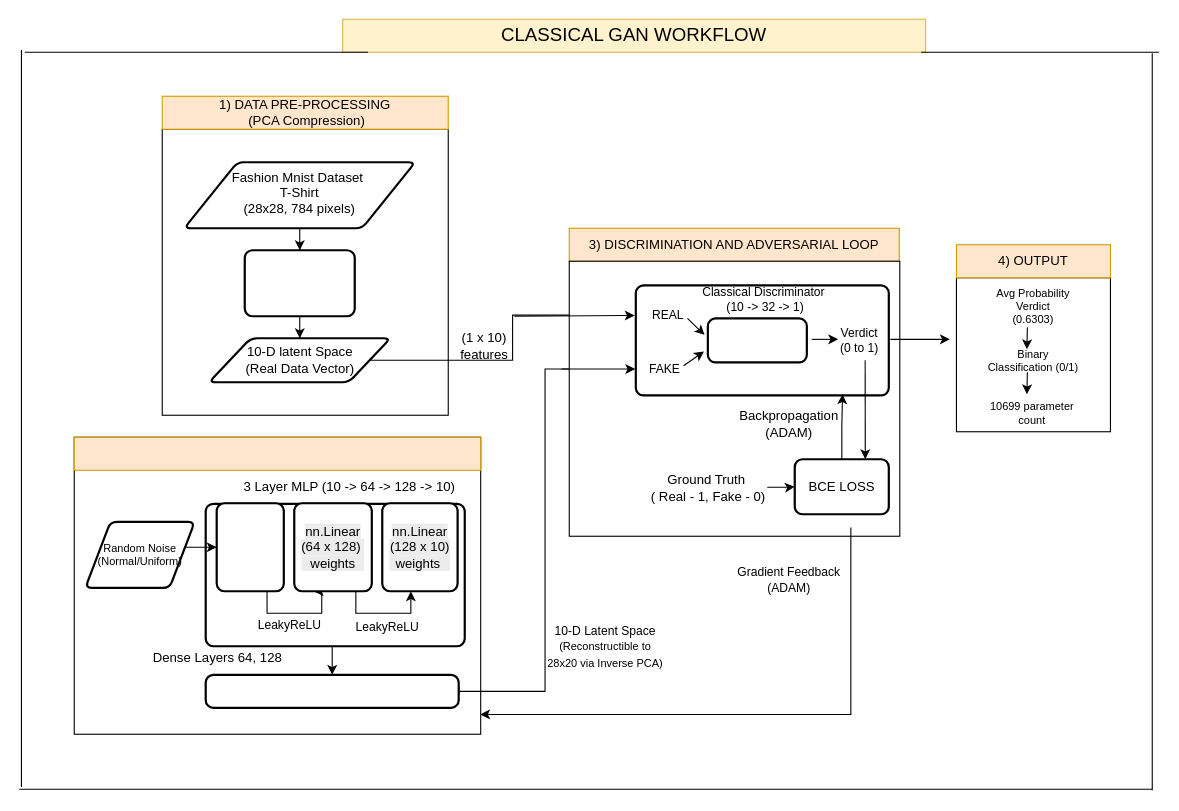
Some shapes in this 1179 by 811 pixel diagram are drawn without their labels. The shapes that lost their labels are listed below. From the top down, each one's centre as x and y in pixels, then its label:
At (x=299, y=283): "Principal Component Analysis (10 components)".
At (x=756, y=340): "SIGMOID ACTIVATION".
At (x=277, y=453): "2) CLASSICAL GENERATOR".
At (x=249, y=547): "nn.Linear (10 X 64) weights".
At (x=331, y=690): "Tanh() Activation".
